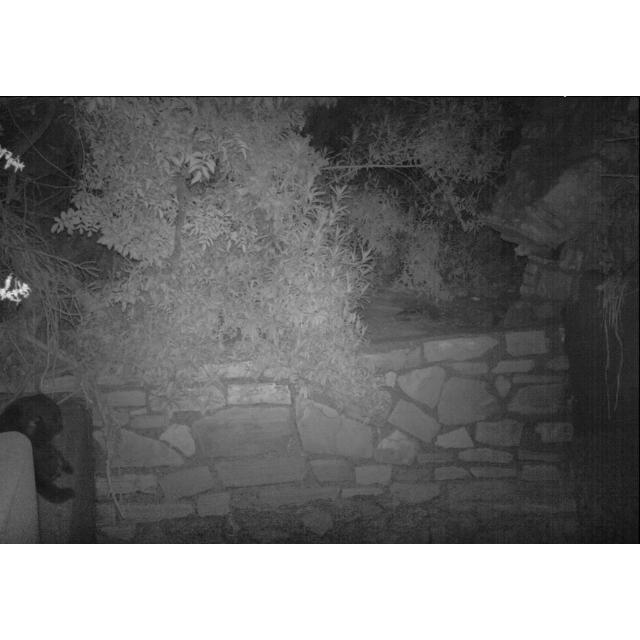animals: (0, 390, 70, 510)
